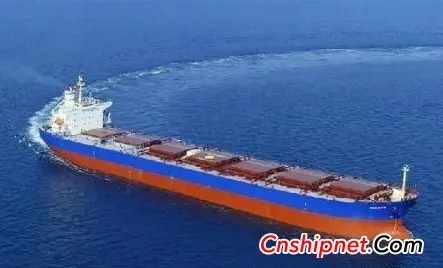Cargoship: (37, 74, 420, 245)
